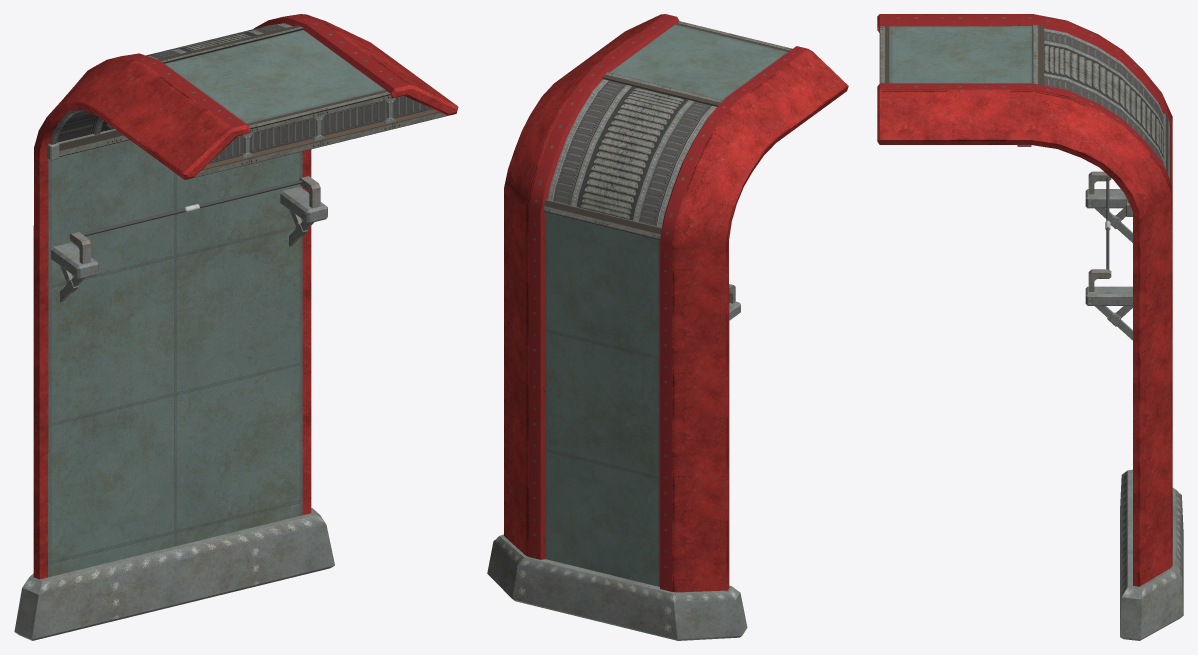
File: Ob_RoadWallTall_RC.fbx
3 renders of one model, left to right at view 1: azimuth 30°, elevation 25°; view 2: azimuth 150°, elevation 25°; view 3: azimuth 270°, elevation 25°, orthographic. The views are drawn at different scales.
Parts seen in each view (by area): view 1: Ob_RoadWallTall_RC; view 2: Ob_RoadWallTall_RC; view 3: Ob_RoadWallTall_RC.
Boxes of the visible parts, x1,y1,x2,y2 form: Ob_RoadWallTall_RC: (14, 14, 458, 640); Ob_RoadWallTall_RC: (487, 14, 848, 640); Ob_RoadWallTall_RC: (877, 14, 1183, 640).
Bounding box in the file's own units: 1147 × 2096 × 1111.
